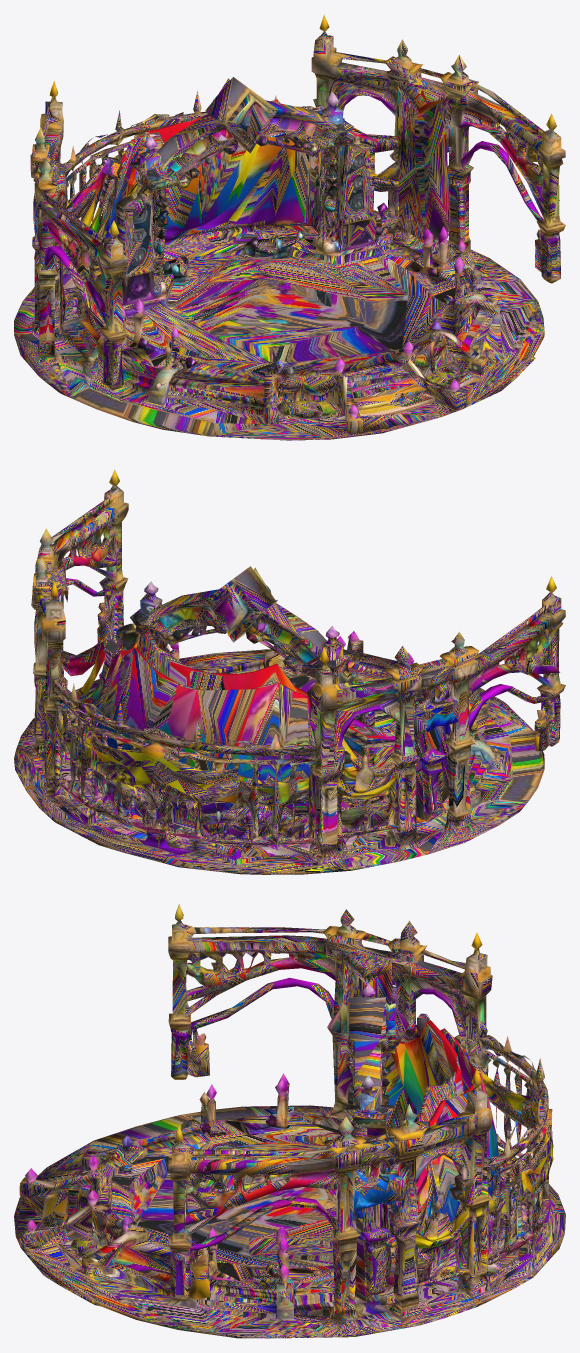
File: Rainbow_Stage.glb
The picture shows the model from 3 angles, top to bottom: view 1: azimuth 30°, elevation 25°; view 2: azimuth 150°, elevation 25°; view 3: azimuth 270°, elevation 25°; orthographic projection. The views are drawn at different scales.
Visible parts, largest first — view 1: Rainbow_Stage; view 2: Rainbow_Stage; view 3: Rainbow_Stage.
Part boxes in pixels (box(x1,y1,x2,y2)): Rainbow_Stage: box(14, 14, 565, 440); Rainbow_Stage: box(14, 469, 565, 874); Rainbow_Stage: box(14, 904, 565, 1338).
Bounding box in the file's own units: 1.89 × 0.8602 × 1.9.
Materials: 1 (1 with a texture image).
